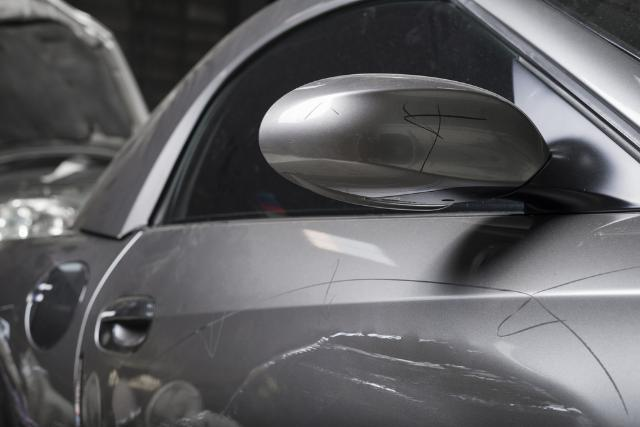dent: (214, 336, 605, 427)
